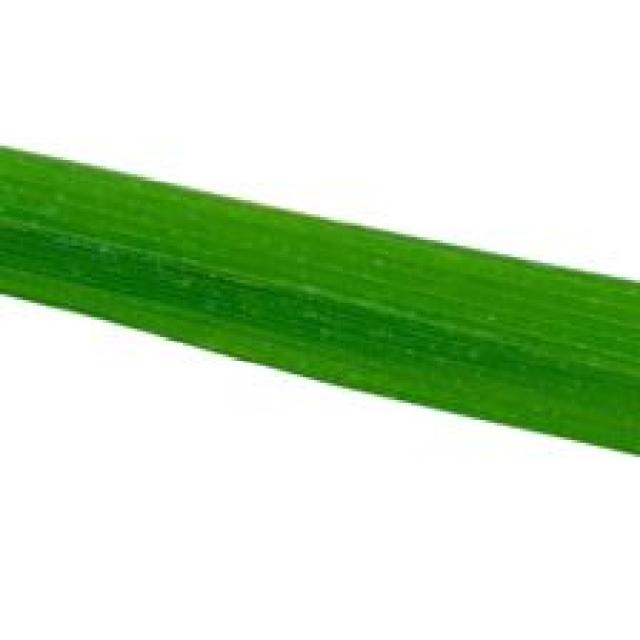Rice___Healthy_Rice_Plant: (0, 145, 637, 460)
